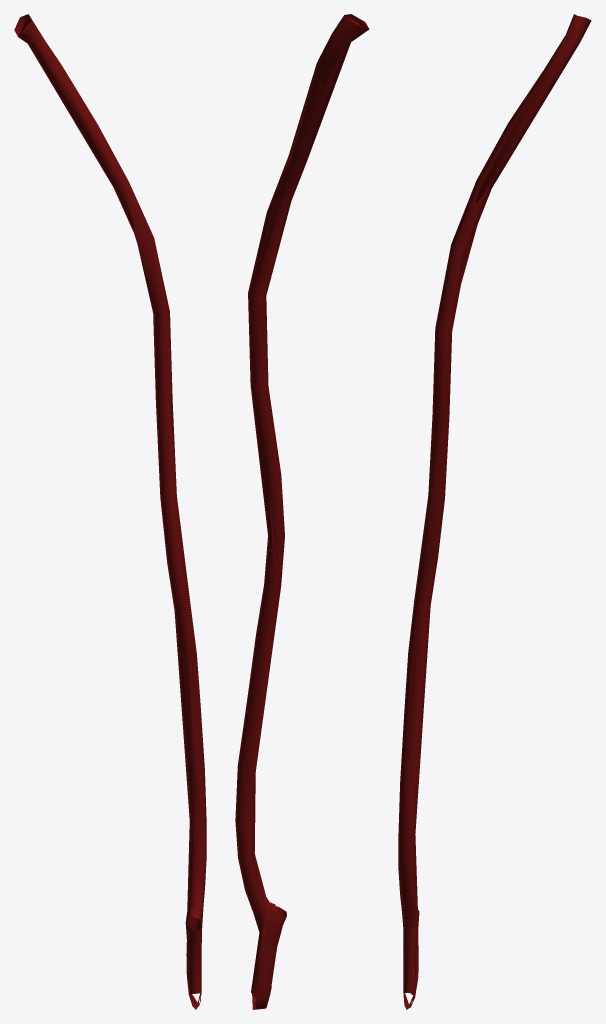
File: L metatarseae plantares III.fbx
3 renders of one model, left to right at view 1: azimuth 90°, elevation 25°; view 2: azimuth 210°, elevation 25°; view 3: azimuth 270°, elevation 25°, orthographic. The views are drawn at different scales.
Parts seen in each view (by area): view 1: L metatarseae plantares III, L metatarseae plantares III low; view 2: L metatarseae plantares III, L metatarseae plantares III low; view 3: L metatarseae plantares III, L metatarseae plantares III low.
Part boxes in pixels (left/top/right/bottom): L metatarseae plantares III: left=14, top=14, right=206, bottom=1009; L metatarseae plantares III low: left=18, top=14, right=206, bottom=1009; L metatarseae plantares III: left=235, top=14, right=368, bottom=1009; L metatarseae plantares III low: left=238, top=14, right=368, bottom=1009; L metatarseae plantares III: left=398, top=14, right=591, bottom=1009; L metatarseae plantares III low: left=402, top=17, right=577, bottom=1009.
Size of the model in its own units: 0.7194 by 13.25 by 2.33.
